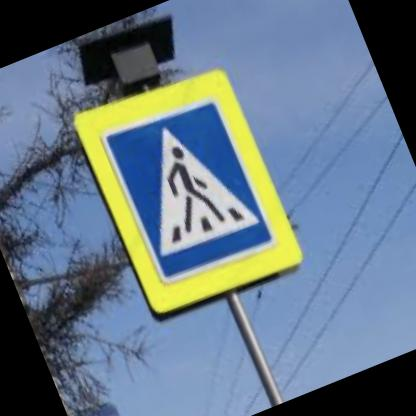crosswalk: (100, 88, 278, 290)
